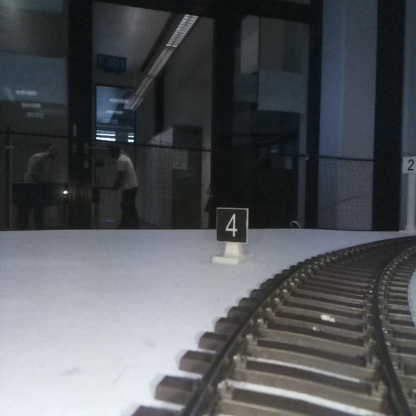black-stop-4: (216, 209, 247, 263)
white-info-2: (402, 156, 416, 232)
